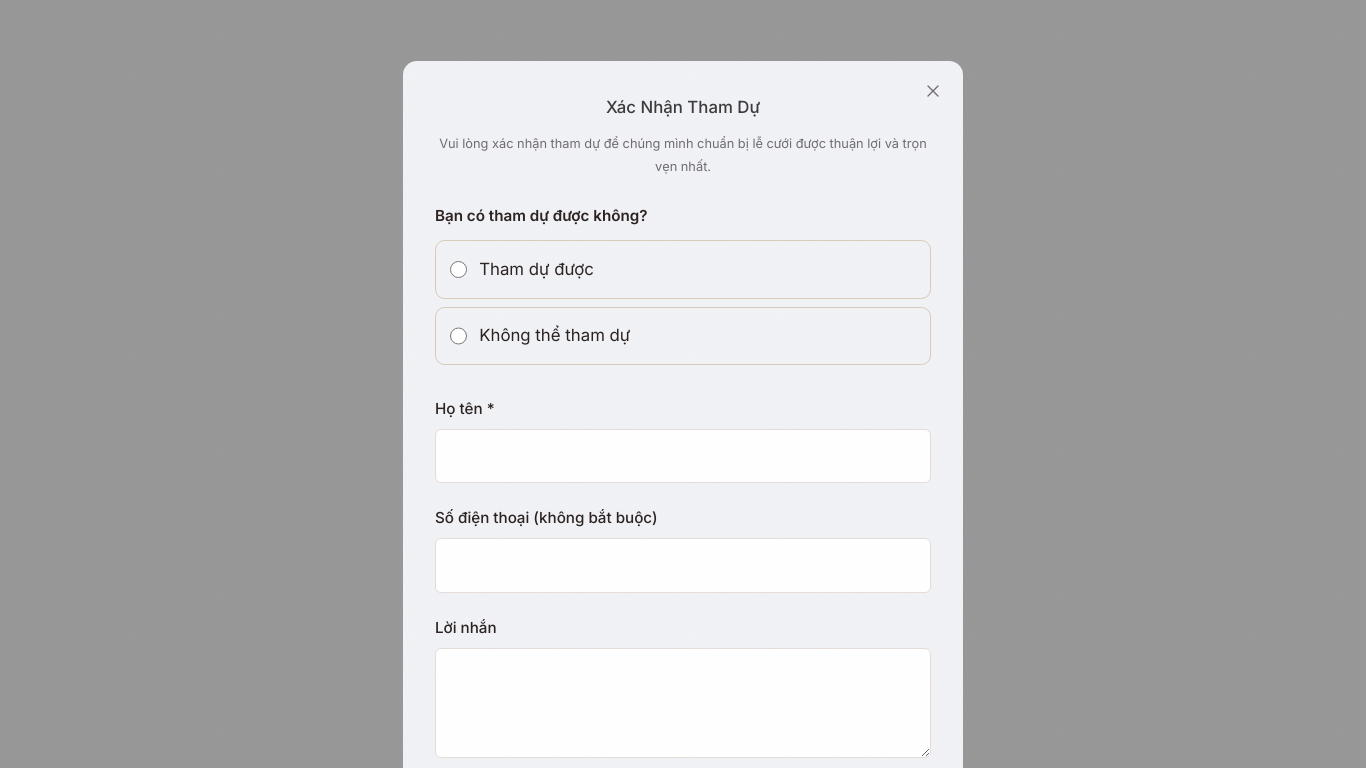
Test: InviteRsvpSheet › retains the draft on storage failure and lets the guest retry
Click the radio button labelled "Tham dự được" at (458, 270), box [450,261,467,278]
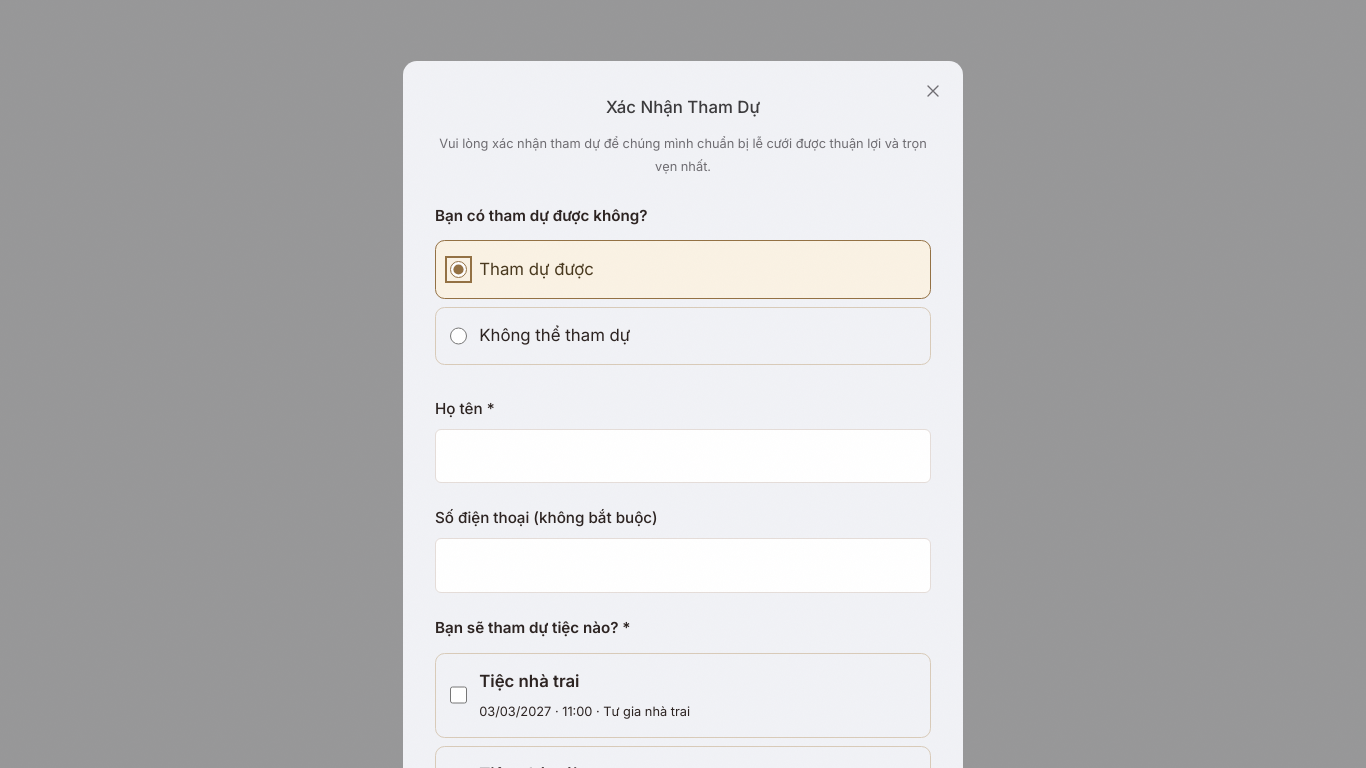
Click the checkbox at (458, 695), box [450,686,467,704]
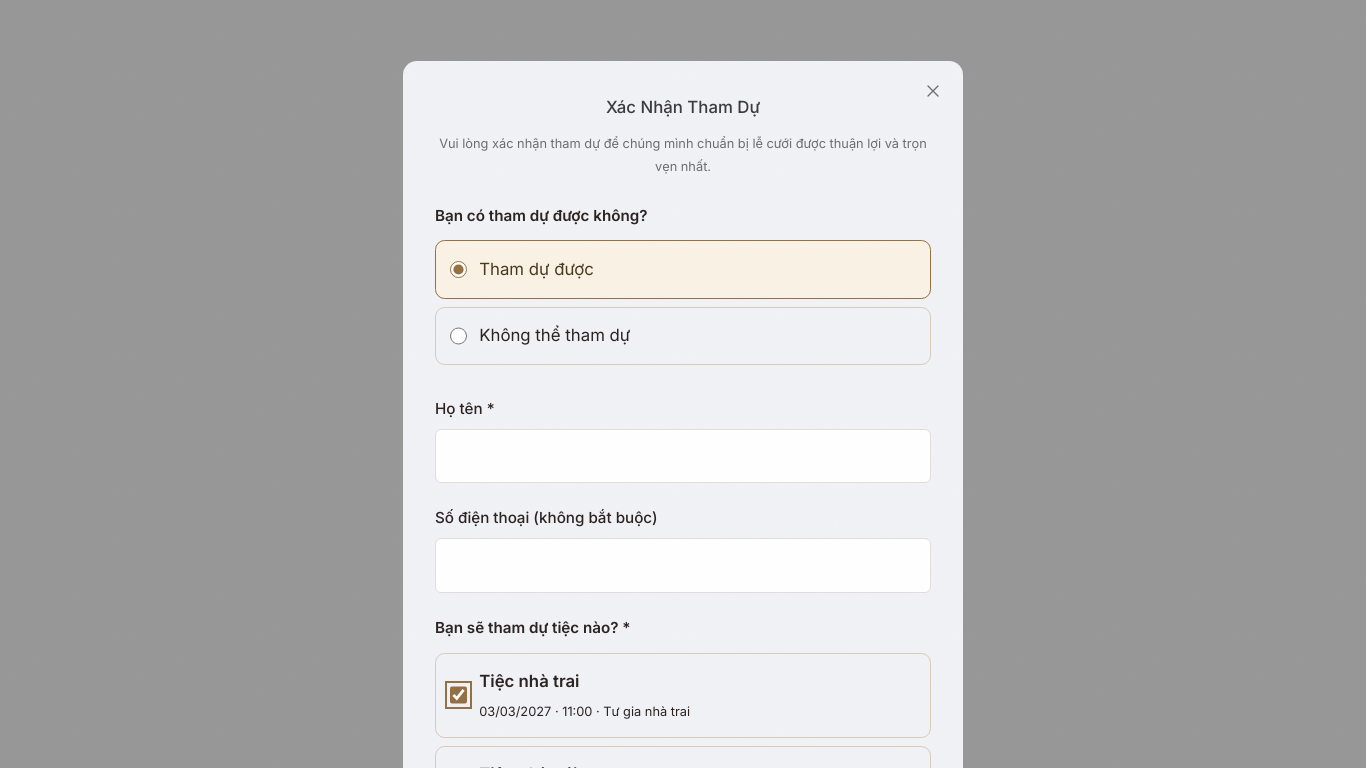
Type "Nguyễn Văn An" into the field labelled "Họ tên *" at (683, 456), box [435,429,931,483]
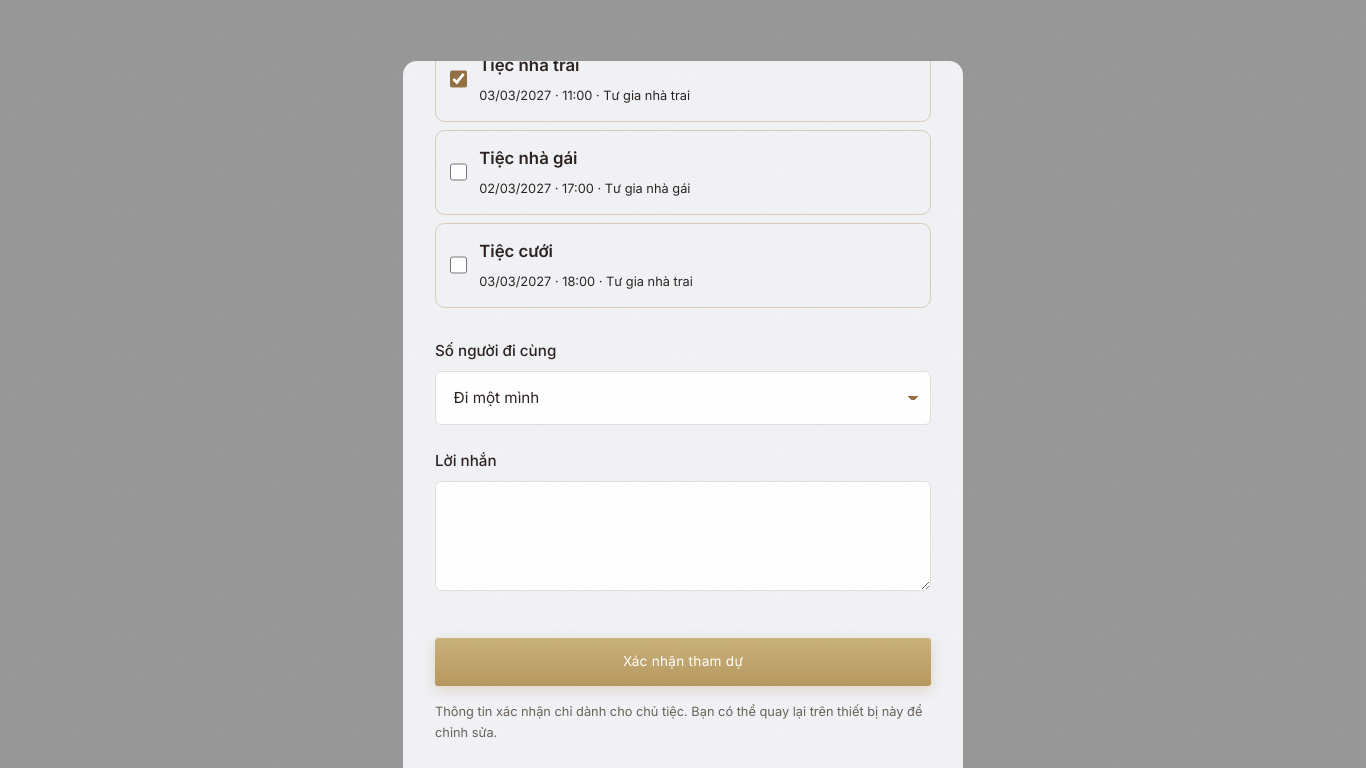
Type "Hẹn gặp nhé!" into the text box labelled "Lời nhắn" at (683, 536), box [435,480,931,590]
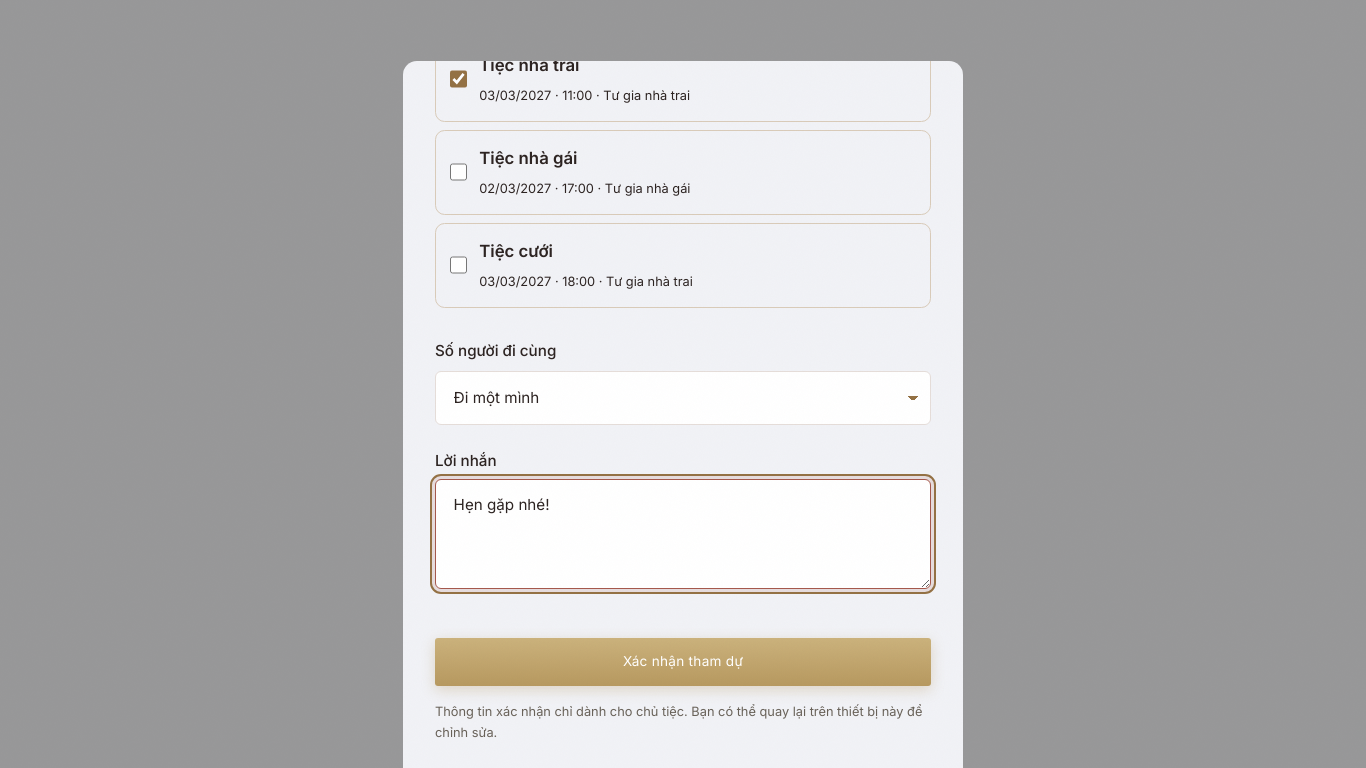
Click the button "Xác nhận tham dự" at (683, 662), box [435,638,931,686]
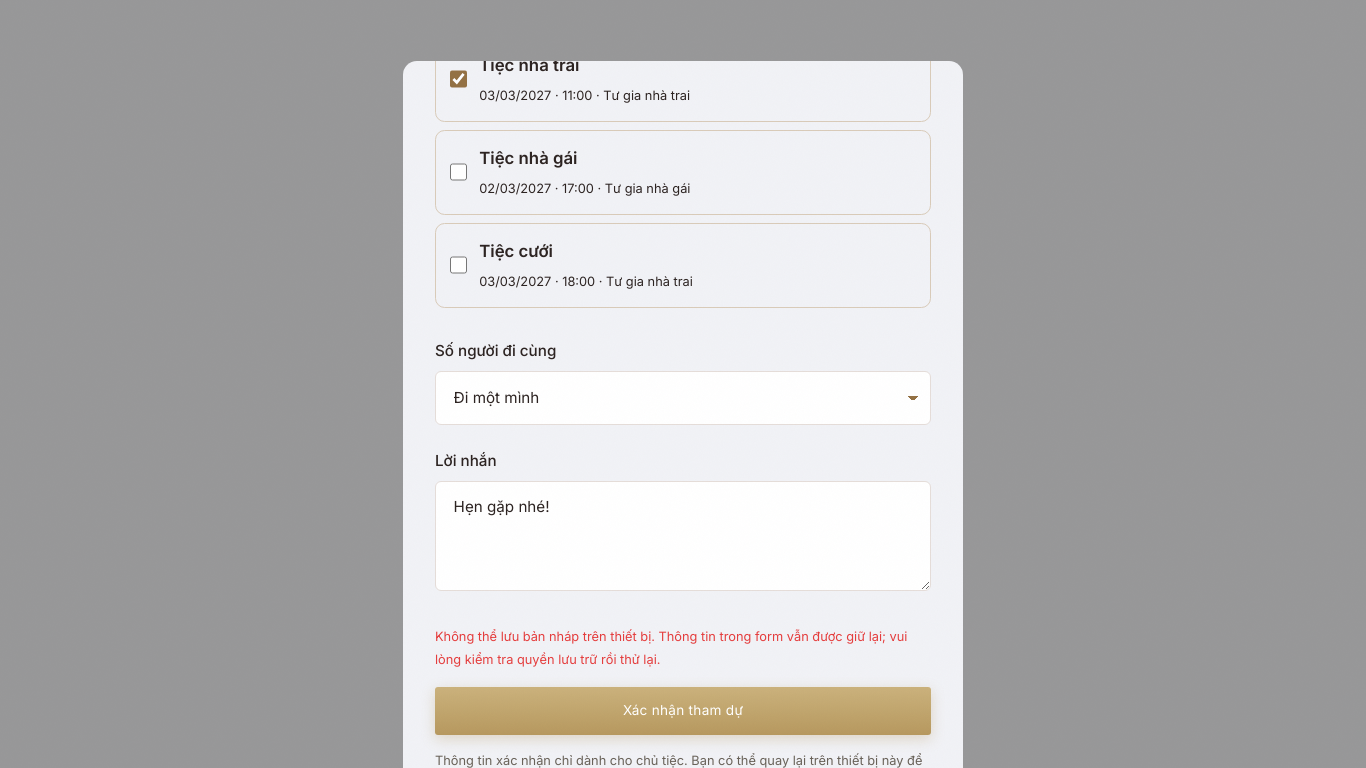
Now the message is shown, box [435,626,931,671]
Click the button "Xác nhận tham dự" at (683, 711), box [435,687,931,735]
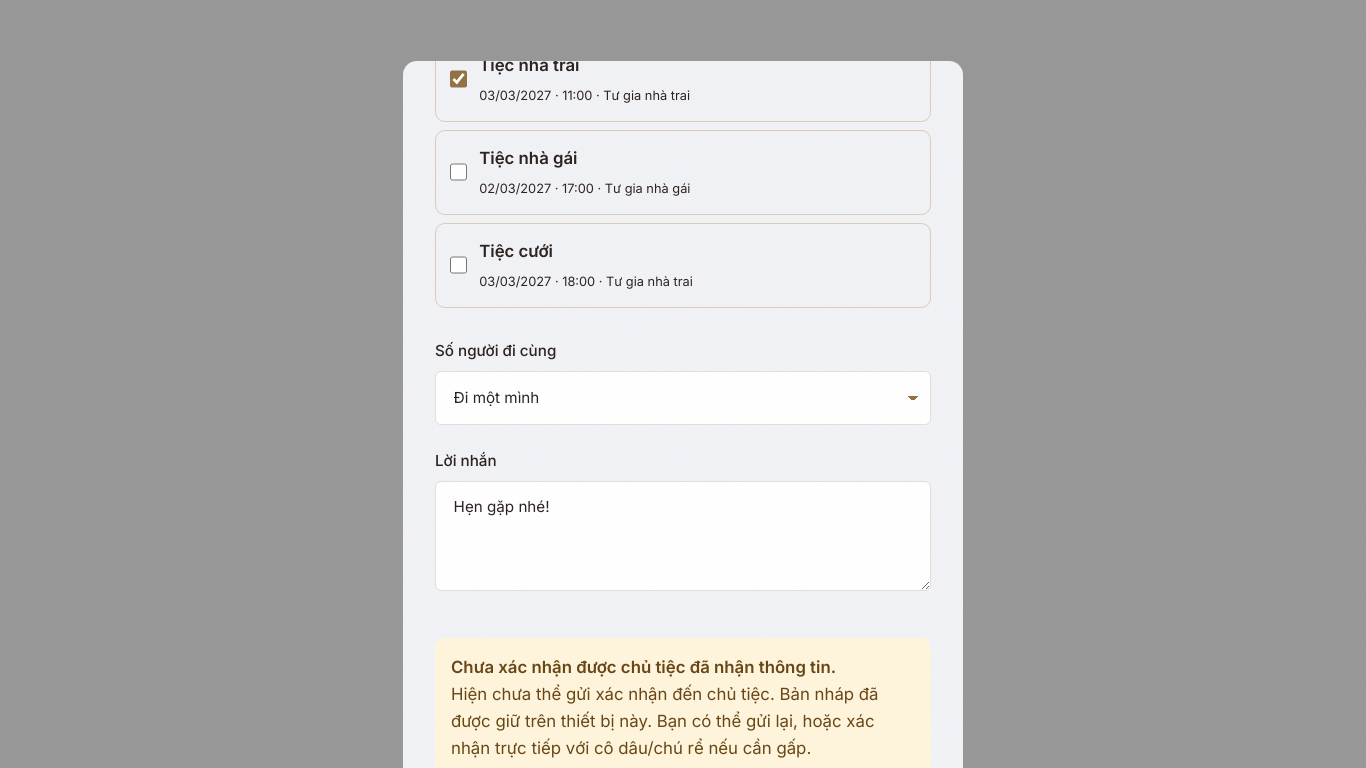
Now the text "Chưa xác nhận được chủ tiệc đã nhận thông tin." is shown, box [451,657,836,677]
